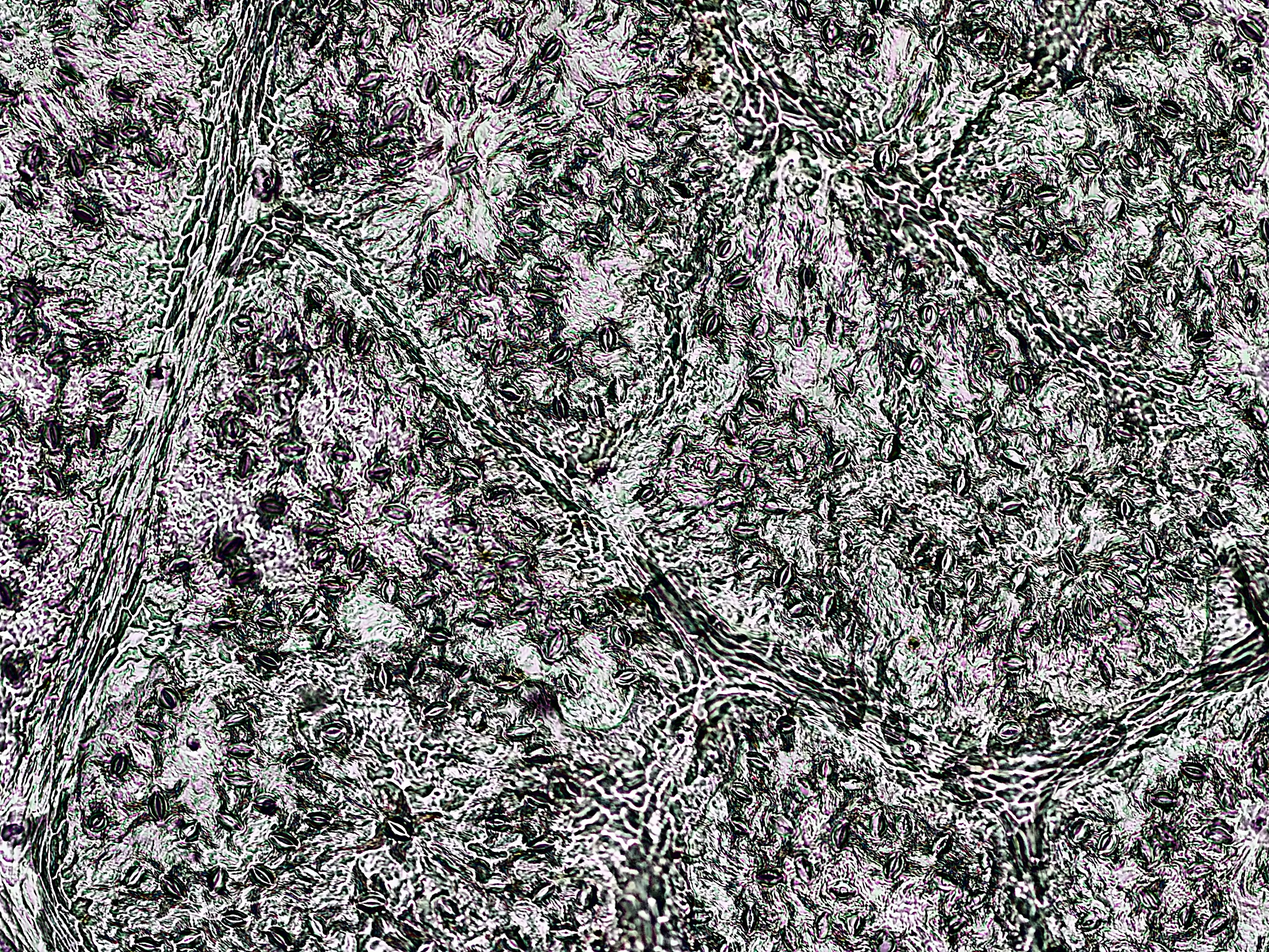stomata: (534, 627, 573, 666), (211, 804, 254, 835), (1139, 24, 1179, 57), (419, 422, 460, 452), (808, 486, 841, 523), (1052, 67, 1092, 96), (233, 382, 268, 415), (345, 888, 394, 911), (368, 566, 400, 601), (756, 493, 797, 520), (479, 480, 517, 508), (1001, 562, 1035, 593), (108, 0, 137, 36), (365, 652, 391, 692), (1192, 255, 1218, 295), (1234, 96, 1262, 133), (1111, 90, 1149, 117), (877, 300, 907, 334), (315, 619, 344, 654), (818, 440, 853, 469), (404, 696, 450, 718), (5, 278, 41, 306), (510, 740, 562, 759), (167, 927, 211, 949), (250, 645, 285, 672), (521, 787, 556, 814), (1148, 127, 1174, 163), (1237, 14, 1268, 44), (102, 748, 134, 777), (1156, 91, 1188, 120), (700, 303, 725, 340), (1070, 150, 1103, 178), (202, 865, 236, 892), (276, 435, 314, 459), (1135, 528, 1165, 558), (492, 75, 521, 106), (42, 467, 74, 495), (8, 183, 41, 210), (290, 859, 327, 883), (926, 18, 948, 58), (250, 865, 279, 895), (1103, 197, 1132, 227), (495, 377, 524, 407), (444, 151, 480, 175), (470, 571, 506, 595), (666, 125, 699, 151), (828, 817, 851, 854), (65, 204, 100, 228), (97, 382, 132, 406), (343, 544, 373, 572), (452, 458, 487, 482), (1120, 148, 1148, 178), (888, 256, 916, 286), (216, 908, 252, 931), (381, 820, 414, 845), (223, 740, 264, 760), (1, 649, 22, 688), (1077, 593, 1101, 627), (219, 533, 256, 555), (303, 19, 331, 48), (1058, 222, 1087, 250), (830, 362, 857, 392), (543, 340, 573, 367), (267, 917, 298, 943), (573, 880, 599, 911), (871, 145, 897, 176), (695, 149, 730, 172), (454, 306, 477, 341), (750, 866, 786, 888), (511, 513, 540, 540), (605, 377, 632, 406), (952, 462, 975, 496), (83, 806, 113, 832), (307, 909, 337, 935), (970, 409, 996, 439), (1241, 287, 1262, 324), (785, 398, 806, 435), (235, 451, 260, 482), (423, 547, 454, 572), (1227, 153, 1250, 186), (376, 503, 412, 524), (1202, 907, 1229, 935), (145, 788, 170, 818), (528, 877, 558, 902), (1176, 0, 1210, 22), (584, 81, 615, 105), (1201, 819, 1232, 843), (734, 517, 765, 541), (451, 511, 483, 534), (789, 314, 810, 349), (695, 449, 722, 476), (558, 667, 586, 693), (1224, 253, 1252, 279), (346, 24, 379, 46), (451, 51, 473, 84), (423, 624, 456, 646), (317, 574, 355, 593), (711, 491, 741, 515), (974, 298, 998, 328), (799, 255, 820, 289), (164, 9, 187, 40), (829, 880, 860, 903), (490, 720, 537, 735), (56, 297, 93, 316), (270, 832, 307, 851), (619, 156, 645, 183), (1122, 568, 1149, 594), (539, 36, 564, 64), (40, 420, 65, 448), (1058, 537, 1075, 578), (207, 610, 236, 634), (1206, 501, 1230, 530), (543, 389, 567, 418), (228, 308, 258, 331), (156, 687, 186, 710), (878, 433, 901, 463), (368, 458, 399, 480), (896, 804, 913, 844), (81, 426, 107, 452), (610, 623, 636, 649), (997, 717, 1024, 742), (1076, 903, 1103, 928), (1000, 179, 1027, 204), (328, 485, 352, 513), (253, 612, 285, 633), (1004, 447, 1032, 471), (740, 396, 768, 420), (594, 323, 618, 351), (510, 319, 538, 343), (103, 80, 132, 103), (245, 340, 268, 369), (551, 923, 586, 942), (499, 549, 532, 569), (578, 219, 611, 239), (157, 875, 188, 896), (822, 307, 843, 338), (1157, 280, 1181, 307), (750, 436, 777, 460), (710, 230, 737, 254), (665, 177, 703, 194), (872, 501, 895, 529), (356, 66, 388, 86), (857, 29, 879, 58), (433, 895, 462, 917), (20, 141, 41, 171), (1211, 29, 1229, 64), (1114, 424, 1144, 445), (1100, 649, 1118, 684), (305, 168, 342, 185), (823, 16, 842, 49), (1200, 462, 1233, 481), (230, 567, 257, 590), (781, 925, 804, 952), (1132, 313, 1155, 340), (1152, 789, 1183, 809), (1034, 187, 1065, 207), (1124, 448, 1144, 479), (787, 448, 807, 479), (61, 146, 82, 175), (177, 812, 198, 841), (481, 872, 510, 893), (926, 587, 947, 616), (539, 262, 571, 281), (641, 0, 673, 19), (582, 15, 614, 34), (622, 106, 654, 125), (526, 836, 558, 855), (884, 846, 903, 878), (516, 214, 541, 238), (747, 750, 772, 774), (814, 754, 838, 779), (838, 771, 868, 791), (1061, 474, 1091, 494), (449, 90, 472, 116), (769, 30, 792, 56), (1184, 756, 1210, 779), (1009, 372, 1032, 398), (869, 807, 886, 842), (1229, 53, 1256, 75), (485, 814, 516, 833), (665, 430, 685, 459), (1184, 329, 1216, 347), (903, 353, 927, 377), (732, 780, 757, 803), (634, 479, 657, 504), (767, 810, 789, 836), (1030, 696, 1056, 718), (603, 188, 625, 214), (486, 339, 505, 369), (572, 138, 599, 159), (720, 413, 741, 440), (1136, 890, 1164, 910), (1195, 548, 1223, 568), (972, 611, 1000, 631), (741, 365, 776, 381), (222, 768, 253, 786), (811, 905, 829, 936), (802, 811, 820, 842), (534, 107, 557, 131), (1025, 229, 1048, 253), (733, 465, 755, 490), (794, 854, 815, 880), (650, 84, 682, 101), (1107, 315, 1125, 345), (400, 13, 419, 41), (383, 101, 411, 120), (513, 190, 541, 209), (1169, 200, 1188, 228), (1097, 828, 1119, 852), (752, 318, 776, 340), (742, 901, 759, 932), (1122, 260, 1147, 281), (980, 338, 1005, 359), (0, 393, 18, 422), (408, 587, 437, 605), (776, 558, 795, 585), (625, 137, 655, 154), (318, 725, 348, 742), (934, 868, 956, 891), (901, 733, 923, 756), (133, 931, 161, 949), (561, 771, 579, 799), (994, 214, 1022, 232), (1052, 609, 1073, 633), (833, 565, 857, 586), (727, 269, 751, 290), (143, 147, 163, 172), (226, 414, 246, 439), (291, 599, 322, 615), (1194, 124, 1210, 155), (1, 575, 16, 608), (937, 545, 952, 578), (1249, 404, 1268, 430), (165, 557, 192, 575), (368, 125, 390, 147), (774, 711, 796, 733), (726, 812, 748, 834), (1073, 815, 1094, 838), (967, 23, 991, 43), (473, 265, 490, 293), (247, 796, 281, 810), (466, 706, 483, 734), (418, 69, 436, 95), (611, 665, 637, 683), (358, 326, 373, 357), (287, 753, 318, 768), (1168, 566, 1197, 582), (316, 122, 338, 143), (742, 549, 763, 571), (154, 97, 177, 117), (1095, 569, 1118, 589), (528, 151, 555, 168), (1039, 429, 1056, 456), (126, 862, 145, 886), (931, 829, 950, 853), (1004, 650, 1028, 669), (962, 573, 981, 597), (46, 348, 71, 366), (847, 913, 865, 938), (420, 269, 440, 291), (499, 240, 519, 262), (476, 612, 498, 632), (818, 594, 838, 616), (303, 283, 327, 301), (1195, 166, 1213, 190), (971, 0, 996, 17), (999, 498, 1024, 515), (792, 0, 811, 22), (1117, 495, 1133, 521), (1113, 606, 1136, 624), (530, 289, 557, 304), (88, 132, 113, 148), (631, 35, 656, 51), (505, 932, 525, 952), (1232, 375, 1250, 397), (587, 391, 601, 419), (999, 36, 1016, 59), (496, 16, 512, 40), (566, 604, 586, 623), (923, 301, 938, 326), (224, 709, 252, 722), (1255, 455, 1269, 481), (452, 242, 467, 266), (658, 66, 688, 78), (1218, 218, 1237, 236), (337, 316, 350, 342), (974, 523, 989, 545), (429, 0, 452, 14), (1184, 901, 1198, 923), (315, 546, 332, 564), (17, 327, 38, 341), (260, 495, 284, 507), (1022, 618, 1040, 634), (869, 0, 892, 12), (83, 338, 102, 352), (1179, 518, 1192, 537), (312, 816, 332, 828)
